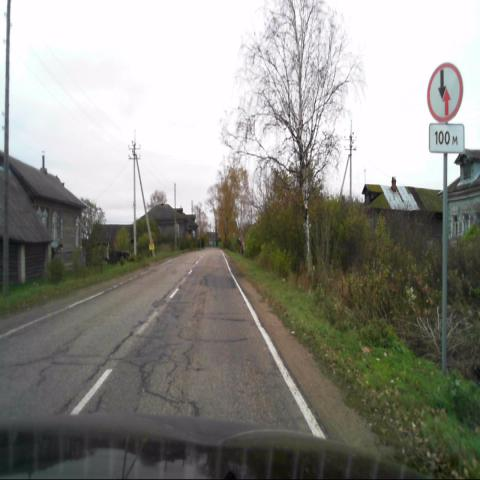2_6: (426, 62, 464, 125)
8_1_1: (429, 125, 464, 153)
